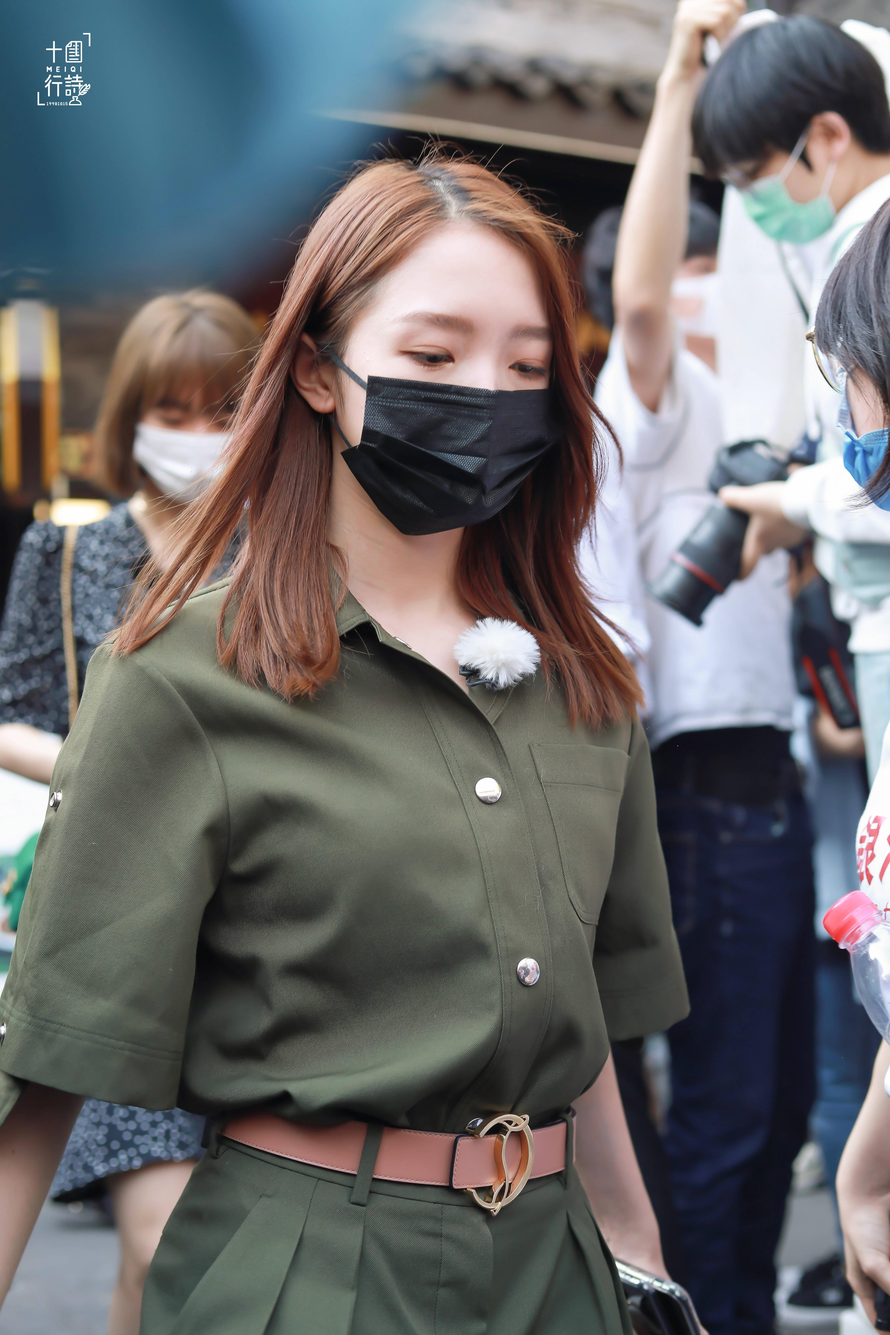OK: (361, 281, 556, 537), (813, 333, 890, 514), (142, 389, 251, 511), (722, 157, 838, 242)
